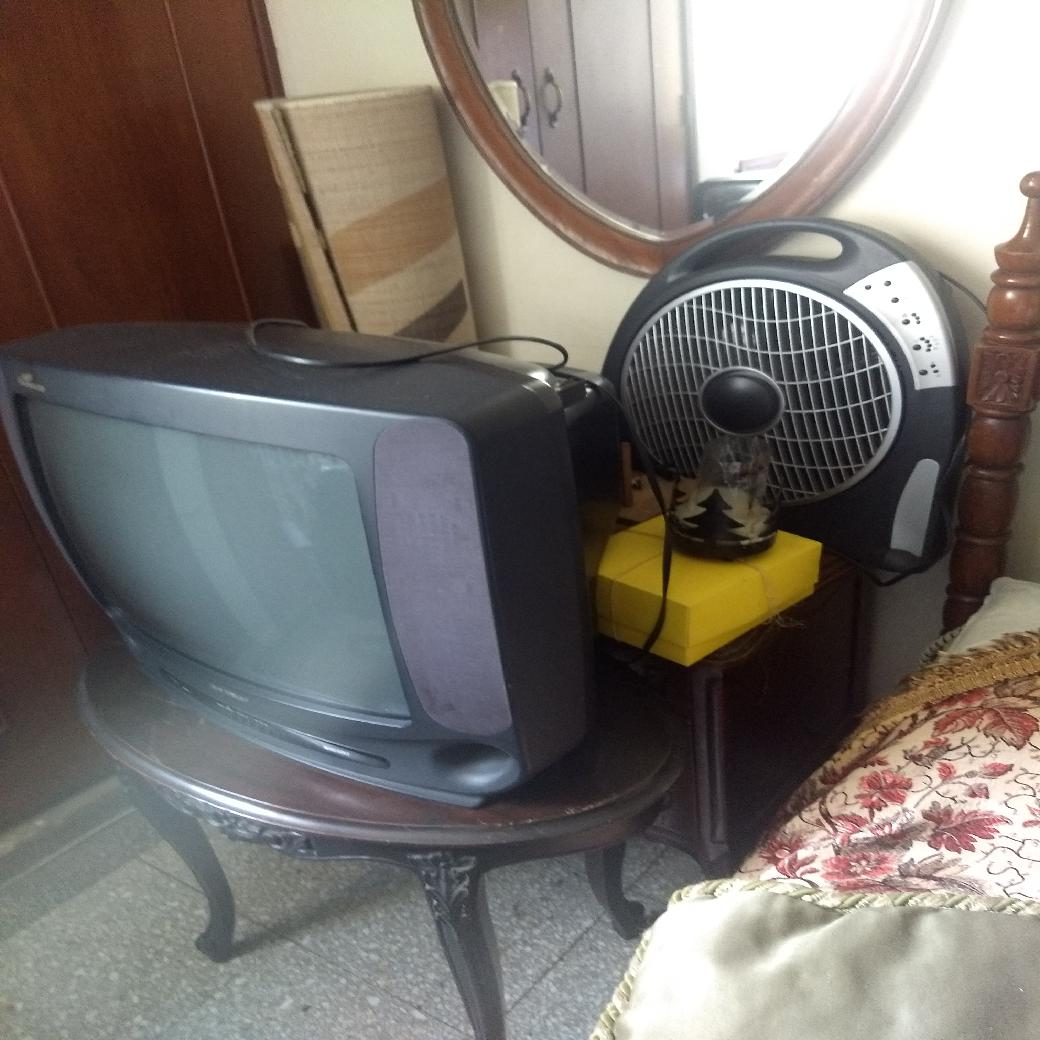tv: (16, 319, 593, 807)
